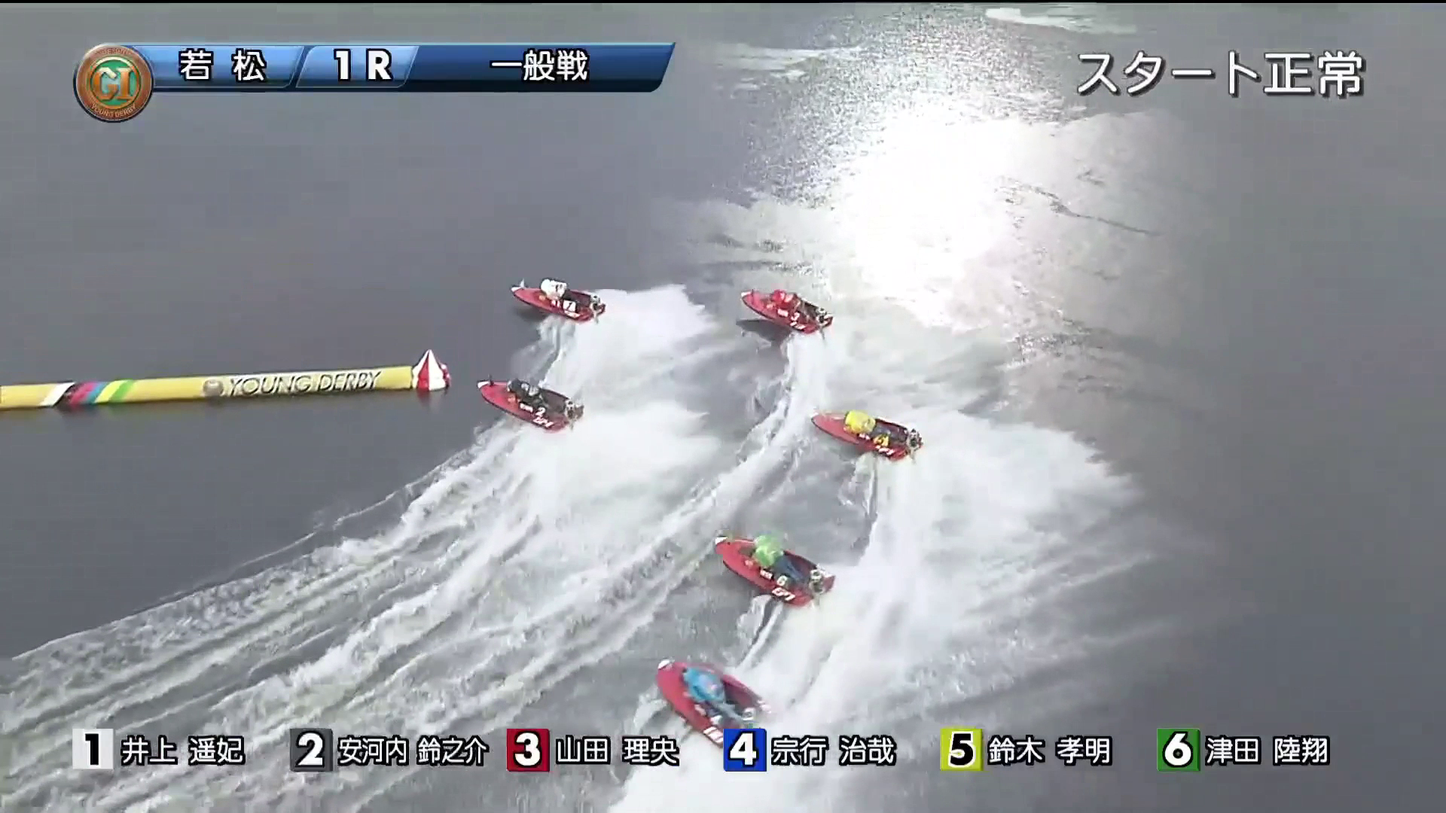１号艇: (495, 286, 566, 339)
２号艇: (446, 374, 574, 435)
３号艇: (747, 278, 845, 324)
４号艇: (702, 533, 836, 599)
５号艇: (664, 669, 787, 724)
６号艇: (821, 392, 921, 471)
